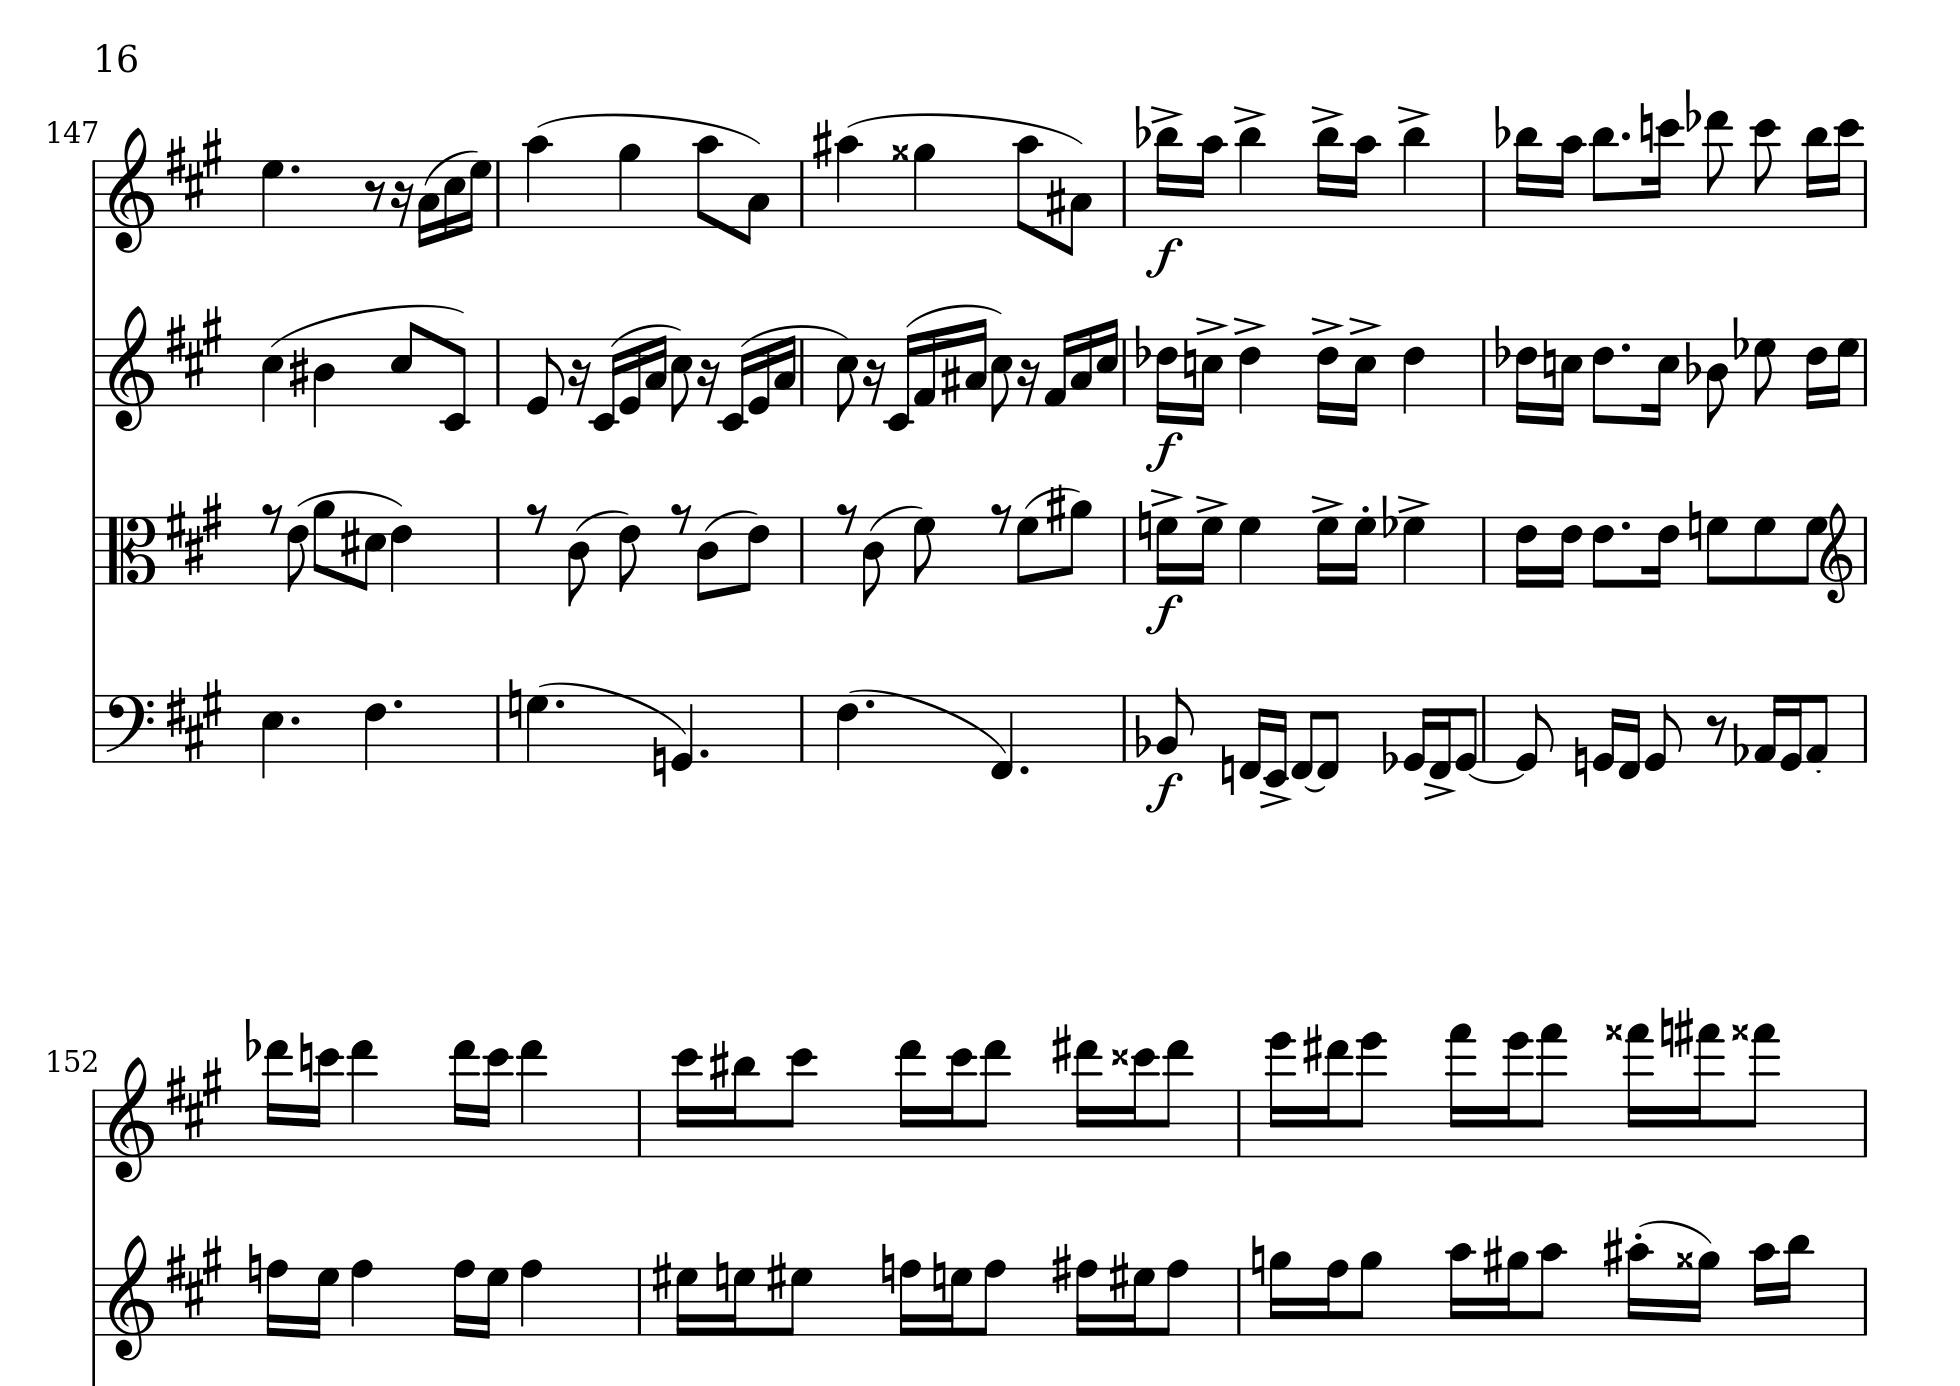1: (94, 40, 112, 73), (46, 118, 61, 145), (46, 1047, 60, 1074)
16_-1: (1239, 693, 1267, 783), (1617, 694, 1641, 780), (1429, 693, 1452, 778)
16_-2: (718, 336, 751, 432), (886, 328, 916, 433), (592, 336, 622, 433), (1264, 694, 1288, 787)
16_0: (1401, 693, 1431, 775), (1591, 693, 1620, 772), (619, 337, 643, 418), (747, 336, 771, 417), (1779, 691, 1803, 772)
16_1: (1044, 330, 1074, 409), (1753, 693, 1782, 765), (913, 327, 937, 408)
16_10: (1347, 133, 1383, 229), (1194, 133, 1228, 229), (1554, 133, 1585, 229), (1749, 1240, 1779, 1336), (1446, 1240, 1474, 1338), (1626, 1242, 1653, 1338)
16_11: (721, 1054, 757, 1159), (1779, 1231, 1812, 1338), (1152, 124, 1182, 229), (1312, 124, 1342, 229), (1512, 126, 1540, 229), (1803, 124, 1830, 229)
16_12: (1645, 117, 1683, 229), (1122, 1045, 1158, 1159), (939, 1047, 975, 1159), (307, 1045, 342, 1158), (1830, 118, 1864, 229), (478, 1045, 511, 1158), (672, 1045, 702, 1159)
16_13: (1317, 1036, 1351, 1159), (1072, 1035, 1102, 1159), (262, 1036, 292, 1158), (895, 1036, 924, 1158), (448, 1036, 477, 1156)
16_14: (1497, 1032, 1533, 1158), (1266, 1030, 1296, 1156)
16_15: (1689, 1021, 1723, 1156), (1533, 1021, 1566, 1158), (1446, 1023, 1476, 1156), (1623, 1023, 1653, 1156)
16_3: (964, 315, 988, 412), (417, 159, 439, 247), (772, 334, 798, 409), (1071, 325, 1093, 408), (643, 334, 667, 409)
16_5: (1644, 337, 1680, 427), (1554, 336, 1584, 427), (1194, 337, 1224, 427), (1347, 337, 1377, 427), (1095, 316, 1119, 406), (442, 157, 466, 238)
16_6: (1644, 514, 1680, 589), (1551, 514, 1584, 589), (1155, 336, 1179, 424), (1315, 337, 1339, 424), (1803, 334, 1830, 411), (1515, 336, 1537, 424), (1515, 514, 1539, 589)
16_7: (307, 1266, 340, 1341), (478, 1264, 510, 1339), (463, 157, 493, 234), (1192, 514, 1224, 586), (724, 1266, 756, 1336), (1830, 336, 1860, 408), (1347, 514, 1377, 586), (942, 1264, 972, 1336), (1125, 1264, 1155, 1336), (1314, 514, 1339, 588), (673, 1266, 699, 1339), (1155, 514, 1179, 588)
16_8: (1317, 1258, 1348, 1336), (451, 1257, 475, 1339), (264, 1258, 288, 1339), (1074, 1258, 1098, 1339), (898, 1258, 921, 1338)
16_9: (1689, 1248, 1722, 1338), (1497, 1249, 1528, 1336), (1266, 1249, 1291, 1338)
2: (79, 1045, 99, 1072)
4: (63, 118, 79, 145)
4_-1: (990, 691, 1015, 781)
4_0: (670, 693, 696, 772)
4_10: (832, 133, 862, 229), (523, 133, 552, 229)
4_11: (1236, 124, 1266, 229), (1399, 126, 1429, 229)
4_13: (346, 1039, 376, 1159), (517, 1039, 546, 1159)
4_4: (310, 336, 337, 429)
4_5: (259, 693, 286, 781), (259, 336, 285, 424)
4_6: (1237, 336, 1263, 415), (363, 693, 388, 772), (1401, 337, 1426, 415), (388, 514, 414, 592), (835, 691, 859, 772)
4_7: (1401, 514, 1428, 586), (1236, 514, 1263, 585), (525, 691, 550, 763), (259, 159, 285, 229)
4_8: (348, 1257, 373, 1338), (517, 1257, 543, 1336)
4_9: (910, 141, 937, 229), (616, 141, 642, 229)
5: (63, 1045, 79, 1074)
6: (117, 40, 138, 73)
7: (81, 117, 99, 145)
8_-1: (1291, 693, 1318, 780), (1317, 691, 1341, 781)
8_-2: (439, 336, 471, 432)
8_0: (1515, 693, 1555, 772), (525, 336, 564, 415), (1644, 694, 1683, 772), (1455, 693, 1479, 772)
8_1: (1806, 693, 1830, 766)
8_10: (1533, 1240, 1566, 1338), (1014, 133, 1044, 232), (694, 133, 721, 229)
8_11: (1590, 124, 1617, 229)
8_12: (778, 1045, 816, 1159), (1752, 117, 1782, 229)
8_13: (975, 1039, 1011, 1158), (1158, 1039, 1194, 1158), (1702, 109, 1734, 229)
8_14: (1351, 1032, 1386, 1156)
8_15: (1744, 1023, 1780, 1158)
8_2: (1156, 685, 1195, 763)
8_3: (1065, 157, 1095, 258), (738, 157, 771, 244)
8_4: (1704, 336, 1729, 429), (565, 514, 591, 607), (861, 514, 886, 607), (694, 514, 720, 603)
8_5: (388, 319, 418, 406), (667, 336, 693, 423), (990, 334, 1014, 424), (358, 514, 385, 592), (834, 337, 858, 423)
8_6: (736, 514, 771, 594), (1591, 336, 1615, 426), (616, 514, 643, 592), (285, 514, 309, 592), (1591, 514, 1615, 589)
8_7: (781, 1264, 813, 1336), (1797, 514, 1825, 585), (910, 514, 937, 585), (1015, 514, 1041, 586), (1752, 514, 1777, 586), (1752, 337, 1777, 406), (1705, 514, 1729, 585)
8_8: (973, 1258, 1006, 1336), (1158, 1257, 1188, 1336)
8_9: (1062, 498, 1093, 586), (1353, 1249, 1383, 1336), (312, 498, 334, 588)
A_S: (163, 306, 223, 388), (165, 127, 223, 211), (165, 1056, 223, 1140), (165, 1233, 223, 1317), (165, 676, 222, 760)
Accent_above: (1194, 313, 1230, 334), (1231, 313, 1267, 334), (1347, 313, 1383, 334), (1422, 780, 1458, 801), (1233, 103, 1267, 124), (1311, 103, 1345, 124), (1396, 103, 1431, 124), (1309, 313, 1344, 334), (1396, 492, 1431, 513), (1194, 493, 1230, 513), (1257, 789, 1293, 808), (1149, 103, 1183, 123), (1309, 493, 1344, 513), (1149, 487, 1182, 505)
Cclef: (105, 514, 157, 585)
DSharp: (1108, 1045, 1131, 1068), (1603, 1021, 1624, 1042), (1729, 1021, 1750, 1042), (889, 141, 910, 160), (1675, 1248, 1693, 1267)
E_S: (163, 490, 223, 576)
Fclef: (105, 691, 154, 763)
Flat: (1380, 490, 1398, 541), (1378, 729, 1398, 775), (1134, 322, 1152, 370), (1683, 87, 1701, 133), (1731, 721, 1749, 768), (1134, 103, 1152, 148), (1134, 712, 1152, 757), (1494, 322, 1510, 370), (243, 1015, 259, 1063), (1494, 103, 1510, 150), (1684, 339, 1701, 385), (1732, 315, 1747, 361)
Gclef: (106, 1231, 156, 1362), (106, 126, 156, 255), (106, 303, 156, 432), (106, 1054, 156, 1183), (1821, 501, 1854, 604)
Natural: (1660, 1003, 1683, 1059), (1248, 1233, 1266, 1288), (505, 676, 523, 730), (1572, 733, 1590, 787), (712, 1249, 730, 1303), (1137, 498, 1153, 553), (246, 1240, 262, 1296), (879, 1240, 895, 1296), (1638, 100, 1654, 154), (1687, 499, 1704, 553), (651, 733, 667, 787), (1219, 742, 1236, 796), (930, 1249, 946, 1303), (298, 1029, 313, 1084), (1182, 336, 1197, 388), (1542, 337, 1557, 388)
Rests16: (862, 357, 886, 406), (1017, 357, 1041, 406), (568, 355, 591, 406), (697, 357, 720, 406), (391, 178, 412, 228)
Rests8: (1704, 711, 1728, 747), (259, 501, 283, 534), (835, 501, 859, 534), (526, 501, 549, 534), (364, 177, 385, 211), (670, 501, 693, 532), (990, 501, 1011, 534)
Sharp: (1671, 1003, 1695, 1060), (288, 343, 310, 399), (1050, 1240, 1072, 1296), (339, 514, 361, 568), (1050, 1021, 1072, 1075), (649, 1249, 672, 1303), (765, 1249, 787, 1303), (1107, 1249, 1129, 1303), (1482, 1231, 1503, 1287), (811, 118, 832, 172), (708, 1039, 729, 1093), (1302, 1021, 1323, 1075), (1602, 1225, 1623, 1279), (1044, 175, 1065, 228), (940, 354, 961, 406), (1045, 483, 1066, 535)
Single_barline: (1857, 337, 1875, 406), (85, 514, 103, 583), (1476, 694, 1494, 760), (1476, 517, 1494, 582), (85, 337, 102, 406), (1857, 694, 1873, 762), (1857, 1267, 1873, 1333), (1476, 339, 1492, 403), (631, 1090, 648, 1155), (1857, 1090, 1873, 1155), (631, 1269, 648, 1333), (1231, 1269, 1248, 1333), (1231, 1090, 1248, 1153), (87, 694, 102, 762), (85, 160, 100, 226), (490, 160, 505, 226), (793, 160, 808, 226), (1117, 160, 1132, 226), (490, 337, 505, 403), (490, 694, 505, 760), (793, 694, 808, 760), (85, 1090, 100, 1156), (795, 334, 808, 406), (1476, 160, 1491, 225), (793, 517, 808, 582), (490, 517, 505, 580), (87, 1267, 100, 1336), (1858, 516, 1872, 583), (1858, 160, 1872, 226), (1119, 337, 1132, 403), (1117, 694, 1131, 760), (1119, 517, 1132, 582)
Slur: (844, 685, 1009, 754), (849, 111, 1092, 150), (271, 303, 463, 346), (538, 679, 684, 732), (538, 114, 765, 145), (904, 301, 1002, 325), (295, 487, 406, 508), (739, 324, 847, 343), (421, 148, 478, 184), (1639, 1218, 1713, 1243), (610, 321, 679, 348), (867, 502, 924, 531), (1023, 484, 1080, 508), (574, 508, 628, 531), (703, 508, 757, 531), (1468, 772, 1525, 784), (1302, 783, 1327, 792)
dot: (1618, 339, 1633, 354), (1618, 517, 1633, 532), (1620, 127, 1633, 142), (288, 160, 301, 175), (288, 712, 301, 727), (391, 696, 405, 709), (697, 745, 709, 760), (1018, 763, 1032, 775), (553, 697, 565, 709), (864, 697, 874, 709)
f: (1143, 237, 1185, 280), (1143, 430, 1185, 472), (1143, 592, 1185, 634), (1143, 771, 1183, 814)
